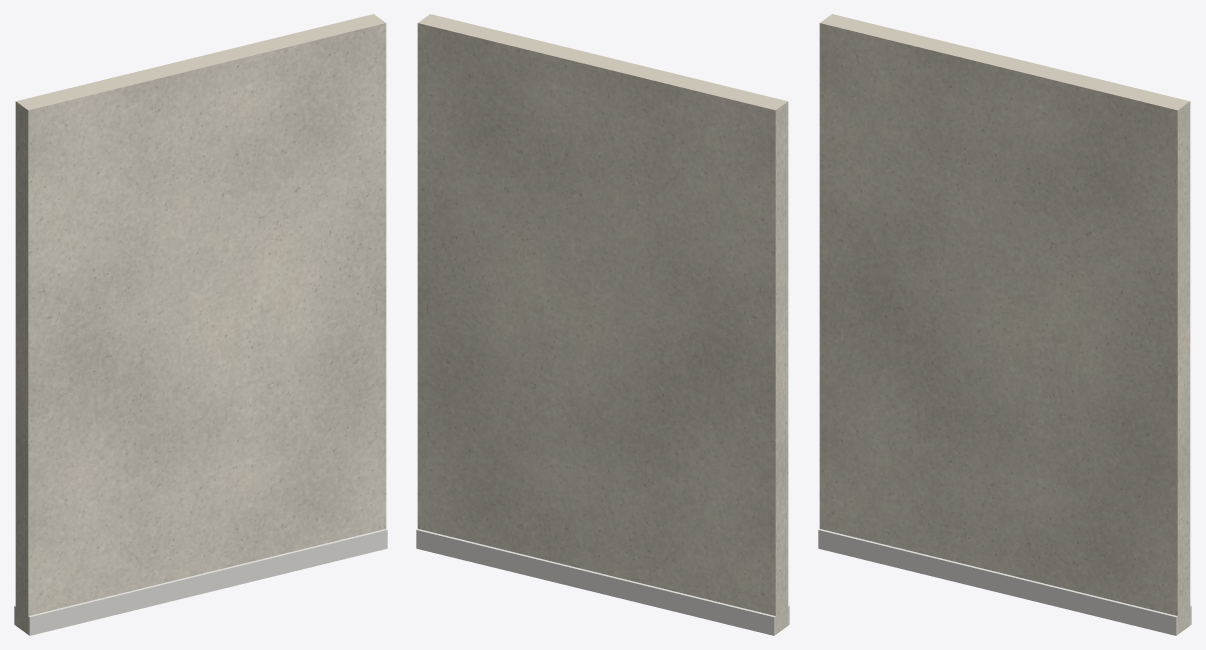
Rendered from interior_wall_plain.glb.
3 views of the same model, side by side, from view 1: azimuth 30°, elevation 25°; view 2: azimuth 150°, elevation 25°; view 3: azimuth 330°, elevation 25° (orthographic).
Visible parts, largest first — view 1: interior_wall_plain_plaster, interior_wall_plain_trim; view 2: interior_wall_plain_plaster, interior_wall_plain_trim; view 3: interior_wall_plain_plaster, interior_wall_plain_trim.
Boxes of the visible parts, bbox=[...] form: interior_wall_plain_plaster: bbox=[15, 14, 386, 634]; interior_wall_plain_trim: bbox=[14, 529, 387, 635]; interior_wall_plain_plaster: bbox=[417, 14, 788, 634]; interior_wall_plain_trim: bbox=[416, 529, 789, 635]; interior_wall_plain_plaster: bbox=[819, 14, 1190, 634]; interior_wall_plain_trim: bbox=[818, 529, 1191, 635].
Bounding box in the file's own units: 2 × 2.8 × 0.15.
2 materials, 1 textured.
